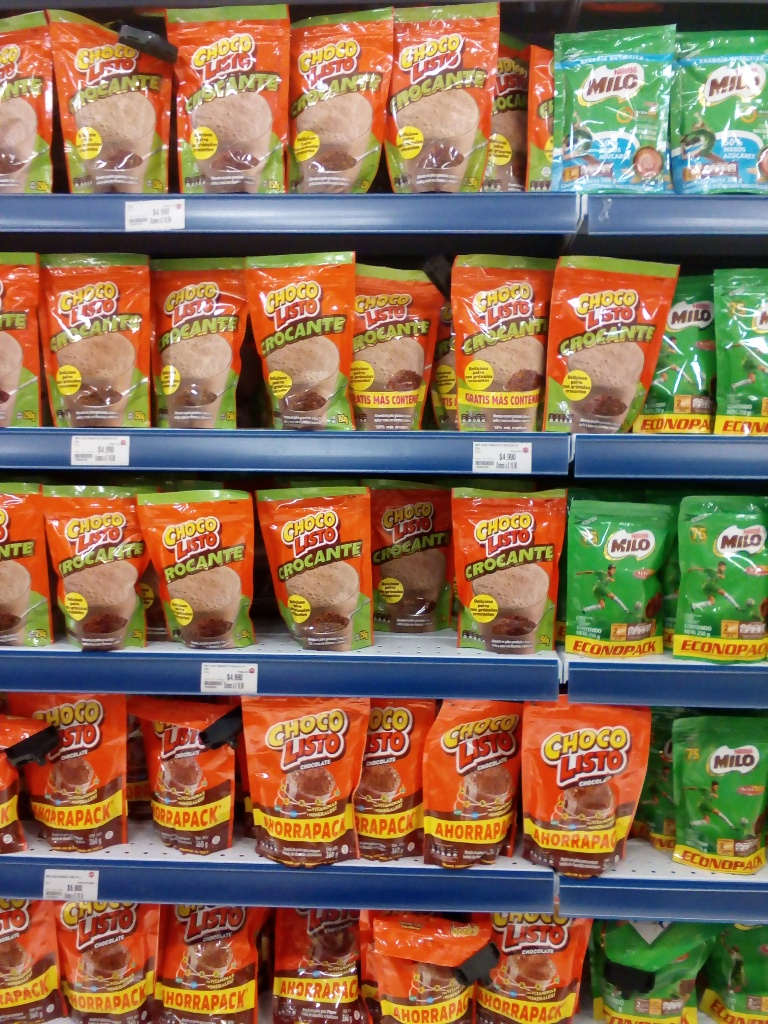COL0170102DYP25000: (2, 14, 58, 195)
COL0170103DYP36000: (523, 698, 653, 872)
COL0170203DYP25000: (646, 274, 716, 436)
COL0170203DYP50000: (600, 914, 699, 1021)
COL0170205DYP20000: (555, 28, 680, 195)
